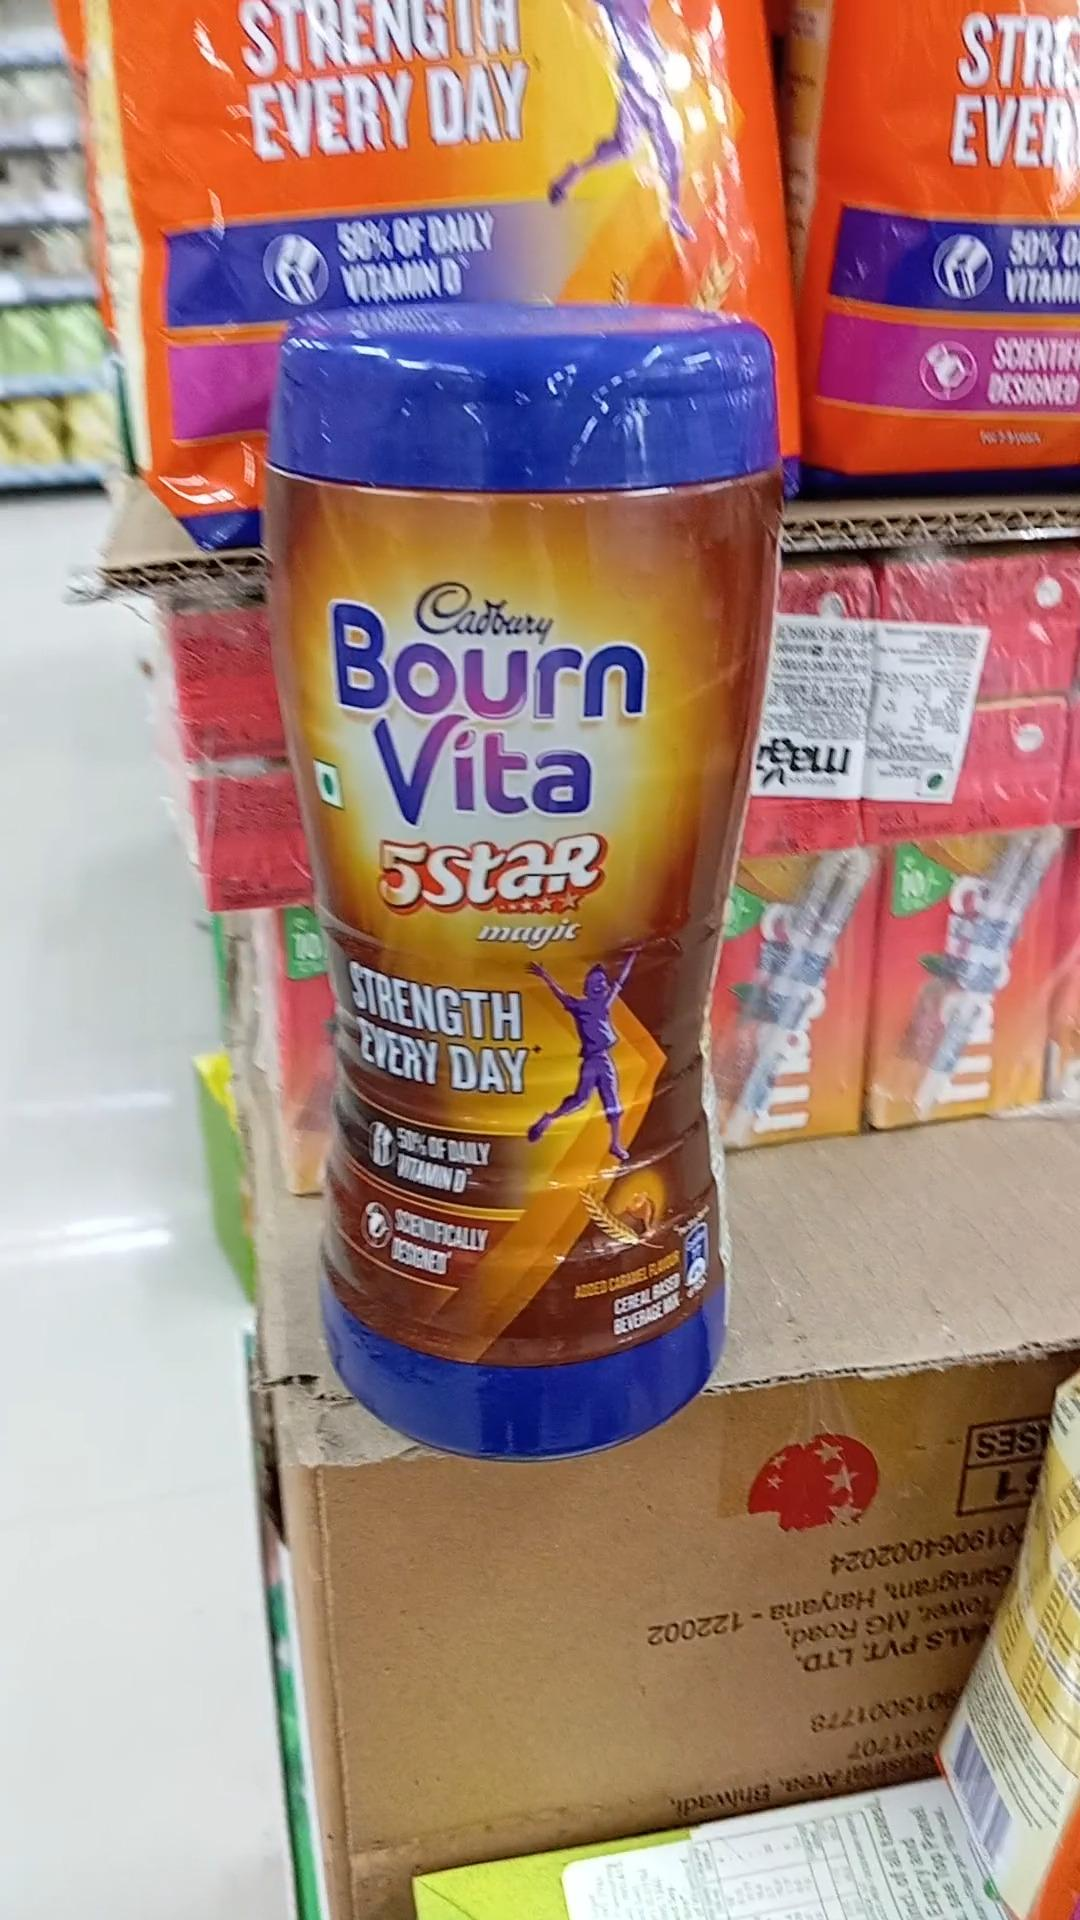BOURN_VITA_FIVE_STAR_MAGIC_500_G_JAR: (262, 299, 808, 1472)
